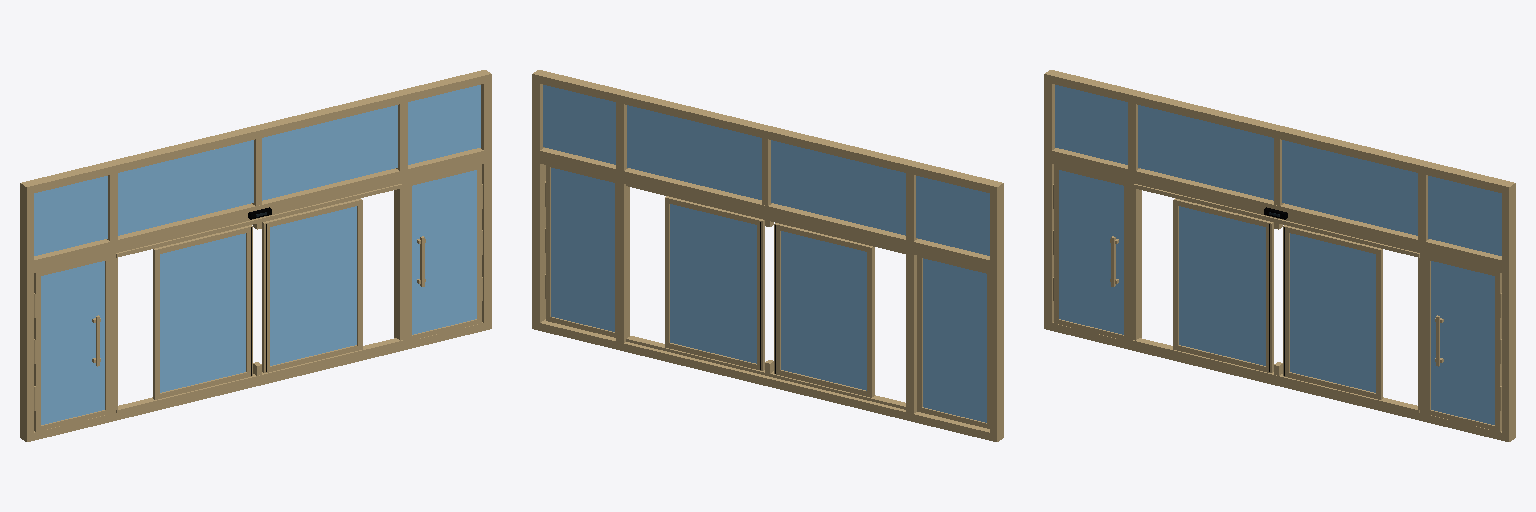
The robot description file, URDF, robot "automatic_glass_entrance":
<robot name="automatic_glass_entrance">
  <material name="champagne_aluminum">
    <color rgba="0.78 0.69 0.52 1" />
    </material>
  <material name="blue_gray_transparent_glass">
    <color rgba="0.58 0.78 0.92 0.34" />
    </material>
  <material name="dark_center_gasket">
    <color rgba="0.05 0.055 0.055 1" />
    </material>
  <material name="black_sensor_module">
    <color rgba="0.035 0.036 0.04 1" />
    </material>
  <material name="sensor_lens_glass">
    <color rgba="0.14 0.18 0.2 0.86" />
    </material>
  <link name="frame">
    <visual name="lower_threshold">
      <origin xyz="0 0 0.05" rpy="0 0 0" />
      <geometry>
        <box size="6.1 0.14 0.1" />
        </geometry>
      <material name="champagne_aluminum">
        <color rgba="0.78 0.69 0.52 1" />
        </material>
      </visual>
    <visual name="top_header">
      <origin xyz="0 0 2.18" rpy="0 0 0" />
      <geometry>
        <box size="6.1 0.14 0.16" />
        </geometry>
      <material name="champagne_aluminum">
        <color rgba="0.78 0.69 0.52 1" />
        </material>
      </visual>
    <visual name="outer_top_rail">
      <origin xyz="0 0 3.15" rpy="0 0 0" />
      <geometry>
        <box size="6.1 0.14 0.1" />
        </geometry>
      <material name="champagne_aluminum">
        <color rgba="0.78 0.69 0.52 1" />
        </material>
      </visual>
    <visual name="left_outer_jamb">
      <origin xyz="-3 0 1.6" rpy="0 0 0" />
      <geometry>
        <box size="0.1 0.14 3.2" />
        </geometry>
      <material name="champagne_aluminum">
        <color rgba="0.78 0.69 0.52 1" />
        </material>
      </visual>
    <visual name="left_center_jamb">
      <origin xyz="-1.9 0 1.6" rpy="0 0 0" />
      <geometry>
        <box size="0.1 0.14 3.2" />
        </geometry>
      <material name="champagne_aluminum">
        <color rgba="0.78 0.69 0.52 1" />
        </material>
      </visual>
    <visual name="right_center_jamb">
      <origin xyz="1.9 0 1.6" rpy="0 0 0" />
      <geometry>
        <box size="0.1 0.14 3.2" />
        </geometry>
      <material name="champagne_aluminum">
        <color rgba="0.78 0.69 0.52 1" />
        </material>
      </visual>
    <visual name="right_outer_jamb">
      <origin xyz="3 0 1.6" rpy="0 0 0" />
      <geometry>
        <box size="0.1 0.14 3.2" />
        </geometry>
      <material name="champagne_aluminum">
        <color rgba="0.78 0.69 0.52 1" />
        </material>
      </visual>
    <visual name="lower_track_rail">
      <origin xyz="0 -0.036 0.118" rpy="0 0 0" />
      <geometry>
        <box size="3.76 0.1 0.036" />
        </geometry>
      <material name="champagne_aluminum">
        <color rgba="0.78 0.69 0.52 1" />
        </material>
      </visual>
    <visual name="upper_track_rail">
      <origin xyz="0 -0.036 2.076" rpy="0 0 0" />
      <geometry>
        <box size="3.76 0.11 0.048" />
        </geometry>
      <material name="champagne_aluminum">
        <color rgba="0.78 0.69 0.52 1" />
        </material>
      </visual>
    <visual name="center_meeting_guide">
      <origin xyz="0 -0.036 0.18" rpy="0 0 0" />
      <geometry>
        <box size="0.07 0.095 0.16" />
        </geometry>
      <material name="champagne_aluminum">
        <color rgba="0.78 0.69 0.52 1" />
        </material>
      </visual>
    <visual name="upper_meeting_guide">
      <origin xyz="0 -0.036 2.035" rpy="0 0 0" />
      <geometry>
        <box size="0.07 0.095 0.13" />
        </geometry>
      <material name="champagne_aluminum">
        <color rgba="0.78 0.69 0.52 1" />
        </material>
      </visual>
    <visual name="transom_mullion_0">
      <origin xyz="-1.9 0 2.68" rpy="0 0 0" />
      <geometry>
        <box size="0.08 0.1288 0.89" />
        </geometry>
      <material name="champagne_aluminum">
        <color rgba="0.78 0.69 0.52 1" />
        </material>
      </visual>
    <visual name="center_transom_mullion">
      <origin xyz="0 0 2.68" rpy="0 0 0" />
      <geometry>
        <box size="0.08 0.1288 0.89" />
        </geometry>
      <material name="champagne_aluminum">
        <color rgba="0.78 0.69 0.52 1" />
        </material>
      </visual>
    <visual name="transom_mullion_1">
      <origin xyz="1.9 0 2.68" rpy="0 0 0" />
      <geometry>
        <box size="0.08 0.1288 0.89" />
        </geometry>
      <material name="champagne_aluminum">
        <color rgba="0.78 0.69 0.52 1" />
        </material>
      </visual>
    <visual name="transom_glass_0">
      <origin xyz="-2.45 -0.004 2.68" rpy="0 0 0" />
      <geometry>
        <box size="1.05 0.018 0.8" />
        </geometry>
      <material name="blue_gray_transparent_glass">
        <color rgba="0.58 0.78 0.92 0.34" />
        </material>
      </visual>
    <visual name="transom_glass_1">
      <origin xyz="-0.95 -0.004 2.68" rpy="0 0 0" />
      <geometry>
        <box size="1.9 0.018 0.8" />
        </geometry>
      <material name="blue_gray_transparent_glass">
        <color rgba="0.58 0.78 0.92 0.34" />
        </material>
      </visual>
    <visual name="transom_glass_2">
      <origin xyz="0.95 -0.004 2.68" rpy="0 0 0" />
      <geometry>
        <box size="1.9 0.018 0.8" />
        </geometry>
      <material name="blue_gray_transparent_glass">
        <color rgba="0.58 0.78 0.92 0.34" />
        </material>
      </visual>
    <visual name="transom_glass_3">
      <origin xyz="2.45 -0.004 2.68" rpy="0 0 0" />
      <geometry>
        <box size="1.05 0.018 0.8" />
        </geometry>
      <material name="blue_gray_transparent_glass">
        <color rgba="0.58 0.78 0.92 0.34" />
        </material>
      </visual>
    <visual name="sensor_module">
      <origin xyz="0 -0.096 2.17" rpy="0 0 0" />
      <geometry>
        <box size="0.28 0.052 0.07" />
        </geometry>
      <material name="black_sensor_module">
        <color rgba="0.035 0.036 0.04 1" />
        </material>
      </visual>
    <visual name="sensor_lens">
      <origin xyz="0 -0.124 2.17" rpy="0 0 0" />
      <geometry>
        <box size="0.135 0.012 0.03" />
        </geometry>
      <material name="sensor_lens_glass">
        <color rgba="0.14 0.18 0.2 0.86" />
        </material>
      </visual>
    </link>
  <link name="left_sliding_leaf">
    <visual name="top_rail">
      <origin xyz="0 0 0.908" rpy="0 0 0" />
      <geometry>
        <box size="1.28 0.06 0.064" />
        </geometry>
      <material name="champagne_aluminum">
        <color rgba="0.78 0.69 0.52 1" />
        </material>
      </visual>
    <visual name="bottom_rail">
      <origin xyz="0 0 -0.908" rpy="0 0 0" />
      <geometry>
        <box size="1.28 0.06 0.064" />
        </geometry>
      <material name="champagne_aluminum">
        <color rgba="0.78 0.69 0.52 1" />
        </material>
      </visual>
    <visual name="outer_stile">
      <origin xyz="-0.608 0 0" rpy="0 0 0" />
      <geometry>
        <box size="0.064 0.06 1.88" />
        </geometry>
      <material name="champagne_aluminum">
        <color rgba="0.78 0.69 0.52 1" />
        </material>
      </visual>
    <visual name="meeting_stile">
      <origin xyz="0.608 0 0" rpy="0 0 0" />
      <geometry>
        <box size="0.0768 0.06 1.88" />
        </geometry>
      <material name="champagne_aluminum">
        <color rgba="0.78 0.69 0.52 1" />
        </material>
      </visual>
    <visual name="center_seal">
      <origin xyz="0.622 0 0" rpy="0 0 0" />
      <geometry>
        <box size="0.018 0.0624 1.8608" />
        </geometry>
      <material name="dark_center_gasket">
        <color rgba="0.05 0.055 0.055 1" />
        </material>
      </visual>
    <visual name="glass_panel">
      <geometry>
        <box size="1.18 0.018 1.782" />
        </geometry>
      <material name="blue_gray_transparent_glass">
        <color rgba="0.58 0.78 0.92 0.34" />
        </material>
      </visual>
    </link>
  <link name="right_sliding_leaf">
    <visual name="top_rail">
      <origin xyz="0 0 0.908" rpy="0 0 0" />
      <geometry>
        <box size="1.28 0.06 0.064" />
        </geometry>
      <material name="champagne_aluminum">
        <color rgba="0.78 0.69 0.52 1" />
        </material>
      </visual>
    <visual name="bottom_rail">
      <origin xyz="0 0 -0.908" rpy="0 0 0" />
      <geometry>
        <box size="1.28 0.06 0.064" />
        </geometry>
      <material name="champagne_aluminum">
        <color rgba="0.78 0.69 0.52 1" />
        </material>
      </visual>
    <visual name="outer_stile">
      <origin xyz="0.608 0 0" rpy="0 0 0" />
      <geometry>
        <box size="0.064 0.06 1.88" />
        </geometry>
      <material name="champagne_aluminum">
        <color rgba="0.78 0.69 0.52 1" />
        </material>
      </visual>
    <visual name="meeting_stile">
      <origin xyz="-0.608 0 0" rpy="0 0 0" />
      <geometry>
        <box size="0.0768 0.06 1.88" />
        </geometry>
      <material name="champagne_aluminum">
        <color rgba="0.78 0.69 0.52 1" />
        </material>
      </visual>
    <visual name="center_seal">
      <origin xyz="-0.622 0 0" rpy="0 0 0" />
      <geometry>
        <box size="0.018 0.0624 1.8608" />
        </geometry>
      <material name="dark_center_gasket">
        <color rgba="0.05 0.055 0.055 1" />
        </material>
      </visual>
    <visual name="glass_panel">
      <geometry>
        <box size="1.18 0.018 1.782" />
        </geometry>
      <material name="blue_gray_transparent_glass">
        <color rgba="0.58 0.78 0.92 0.34" />
        </material>
      </visual>
    </link>
  <link name="left_side_door">
    <visual name="top_rail">
      <origin xyz="0.488 0 0.97" rpy="0 0 0" />
      <geometry>
        <box size="0.976 0.055 0.06" />
        </geometry>
      <material name="champagne_aluminum">
        <color rgba="0.78 0.69 0.52 1" />
        </material>
      </visual>
    <visual name="bottom_rail">
      <origin xyz="0.488 0 -0.97" rpy="0 0 0" />
      <geometry>
        <box size="0.976 0.055 0.06" />
        </geometry>
      <material name="champagne_aluminum">
        <color rgba="0.78 0.69 0.52 1" />
        </material>
      </visual>
    <visual name="hinge_stile">
      <origin xyz="0.03 0 0" rpy="0 0 0" />
      <geometry>
        <box size="0.06 0.055 2" />
        </geometry>
      <material name="champagne_aluminum">
        <color rgba="0.78 0.69 0.52 1" />
        </material>
      </visual>
    <visual name="latch_stile">
      <origin xyz="0.946 0 0" rpy="0 0 0" />
      <geometry>
        <box size="0.06 0.055 2" />
        </geometry>
      <material name="champagne_aluminum">
        <color rgba="0.78 0.69 0.52 1" />
        </material>
      </visual>
    <visual name="glass_panel">
      <origin xyz="0.488 0 0" rpy="0 0 0" />
      <geometry>
        <box size="0.882 0.0187 1.906" />
        </geometry>
      <material name="blue_gray_transparent_glass">
        <color rgba="0.58 0.78 0.92 0.34" />
        </material>
      </visual>
    <visual name="handle_bar">
      <origin xyz="0.796 -0.056 -0.03" rpy="0 0 0" />
      <geometry>
        <box size="0.035 0.035 0.62" />
        </geometry>
      <material name="champagne_aluminum">
        <color rgba="0.78 0.69 0.52 1" />
        </material>
      </visual>
    <visual name="handle_mount_0">
      <origin xyz="0.796 -0.03 -0.28" rpy="0 0 0" />
      <geometry>
        <box size="0.09 0.045 0.04" />
        </geometry>
      <material name="champagne_aluminum">
        <color rgba="0.78 0.69 0.52 1" />
        </material>
      </visual>
    <visual name="handle_mount_1">
      <origin xyz="0.796 -0.03 0.22" rpy="0 0 0" />
      <geometry>
        <box size="0.09 0.045 0.04" />
        </geometry>
      <material name="champagne_aluminum">
        <color rgba="0.78 0.69 0.52 1" />
        </material>
      </visual>
    <visual name="hinge_barrel_0">
      <origin xyz="0 0 -0.58" rpy="0 0 0" />
      <geometry>
        <cylinder radius="0.024" length="0.3" />
        </geometry>
      <material name="champagne_aluminum">
        <color rgba="0.78 0.69 0.52 1" />
        </material>
      </visual>
    <visual name="hinge_barrel_1">
      <geometry>
        <cylinder radius="0.024" length="0.3" />
        </geometry>
      <material name="champagne_aluminum">
        <color rgba="0.78 0.69 0.52 1" />
        </material>
      </visual>
    <visual name="hinge_barrel_2">
      <origin xyz="0 0 0.58" rpy="0 0 0" />
      <geometry>
        <cylinder radius="0.024" length="0.3" />
        </geometry>
      <material name="champagne_aluminum">
        <color rgba="0.78 0.69 0.52 1" />
        </material>
      </visual>
    </link>
  <link name="right_side_door">
    <visual name="top_rail">
      <origin xyz="-0.488 0 0.97" rpy="0 0 0" />
      <geometry>
        <box size="0.976 0.055 0.06" />
        </geometry>
      <material name="champagne_aluminum">
        <color rgba="0.78 0.69 0.52 1" />
        </material>
      </visual>
    <visual name="bottom_rail">
      <origin xyz="-0.488 0 -0.97" rpy="0 0 0" />
      <geometry>
        <box size="0.976 0.055 0.06" />
        </geometry>
      <material name="champagne_aluminum">
        <color rgba="0.78 0.69 0.52 1" />
        </material>
      </visual>
    <visual name="hinge_stile">
      <origin xyz="-0.03 0 0" rpy="0 0 0" />
      <geometry>
        <box size="0.06 0.055 2" />
        </geometry>
      <material name="champagne_aluminum">
        <color rgba="0.78 0.69 0.52 1" />
        </material>
      </visual>
    <visual name="latch_stile">
      <origin xyz="-0.946 0 0" rpy="0 0 0" />
      <geometry>
        <box size="0.06 0.055 2" />
        </geometry>
      <material name="champagne_aluminum">
        <color rgba="0.78 0.69 0.52 1" />
        </material>
      </visual>
    <visual name="glass_panel">
      <origin xyz="-0.488 0 0" rpy="0 0 0" />
      <geometry>
        <box size="0.882 0.0187 1.906" />
        </geometry>
      <material name="blue_gray_transparent_glass">
        <color rgba="0.58 0.78 0.92 0.34" />
        </material>
      </visual>
    <visual name="handle_bar">
      <origin xyz="-0.796 -0.056 -0.03" rpy="0 0 0" />
      <geometry>
        <box size="0.035 0.035 0.62" />
        </geometry>
      <material name="champagne_aluminum">
        <color rgba="0.78 0.69 0.52 1" />
        </material>
      </visual>
    <visual name="handle_mount_0">
      <origin xyz="-0.796 -0.03 -0.28" rpy="0 0 0" />
      <geometry>
        <box size="0.09 0.045 0.04" />
        </geometry>
      <material name="champagne_aluminum">
        <color rgba="0.78 0.69 0.52 1" />
        </material>
      </visual>
    <visual name="handle_mount_1">
      <origin xyz="-0.796 -0.03 0.22" rpy="0 0 0" />
      <geometry>
        <box size="0.09 0.045 0.04" />
        </geometry>
      <material name="champagne_aluminum">
        <color rgba="0.78 0.69 0.52 1" />
        </material>
      </visual>
    <visual name="hinge_barrel_0">
      <origin xyz="0 0 -0.58" rpy="0 0 0" />
      <geometry>
        <cylinder radius="0.024" length="0.3" />
        </geometry>
      <material name="champagne_aluminum">
        <color rgba="0.78 0.69 0.52 1" />
        </material>
      </visual>
    <visual name="hinge_barrel_1">
      <geometry>
        <cylinder radius="0.024" length="0.3" />
        </geometry>
      <material name="champagne_aluminum">
        <color rgba="0.78 0.69 0.52 1" />
        </material>
      </visual>
    <visual name="hinge_barrel_2">
      <origin xyz="0 0 0.58" rpy="0 0 0" />
      <geometry>
        <cylinder radius="0.024" length="0.3" />
        </geometry>
      <material name="champagne_aluminum">
        <color rgba="0.78 0.69 0.52 1" />
        </material>
      </visual>
    </link>
  <joint name="left_leaf_slide" type="prismatic">
    <origin xyz="-0.72 -0.035 1.076" rpy="0 0 0" />
    <parent link="frame" />
    <child link="left_sliding_leaf" />
    <axis xyz="-1 0 0" />
    <limit effort="90" velocity="0.55" lower="-0.07" upper="0.45" />
    </joint>
  <joint name="right_leaf_slide" type="prismatic">
    <origin xyz="0.72 -0.035 1.076" rpy="0 0 0" />
    <parent link="frame" />
    <child link="right_sliding_leaf" />
    <axis xyz="1 0 0" />
    <limit effort="90" velocity="0.55" lower="-0.07" upper="0.45" />
    </joint>
  <joint name="left_side_hinge" type="revolute">
    <origin xyz="-2.926 -0.04 1.1" rpy="0 0 0" />
    <parent link="frame" />
    <child link="left_side_door" />
    <axis xyz="0 0 -1" />
    <limit effort="35" velocity="1.2" lower="0" upper="1.25" />
    </joint>
  <joint name="right_side_hinge" type="revolute">
    <origin xyz="2.926 -0.04 1.1" rpy="0 0 0" />
    <parent link="frame" />
    <child link="right_side_door" />
    <axis xyz="0 0 1" />
    <limit effort="35" velocity="1.2" lower="0" upper="1.25" />
    </joint>
  </robot>

--- Facts derived from the render (not from the file) ---
3 views of the same robot in one strip: view 1: azimuth 30°, elevation 25°; view 2: azimuth 150°, elevation 25°; view 3: azimuth 330°, elevation 25° (orthographic).
Model automatic_glass_entrance with 5 links and 4 joints (2 revolute, 2 prismatic), rooted at frame, posed all joints at 0.
Links seen in each view (by area): view 1: frame, right_sliding_leaf, left_sliding_leaf, left_side_door, right_side_door; view 2: frame, left_sliding_leaf, right_sliding_leaf, left_side_door, right_side_door; view 3: frame, left_sliding_leaf, right_sliding_leaf, right_side_door, left_side_door.
Boxes of the visible links, x1,y1,x2,y2 form: frame: [20, 70, 491, 441]; right_sliding_leaf: [262, 198, 362, 372]; left_sliding_leaf: [153, 225, 252, 399]; left_side_door: [34, 255, 109, 431]; right_side_door: [408, 164, 482, 340]; frame: [532, 70, 1003, 441]; left_sliding_leaf: [774, 223, 874, 397]; right_sliding_leaf: [665, 196, 764, 370]; left_side_door: [917, 256, 989, 428]; right_side_door: [545, 165, 615, 337]; frame: [1044, 70, 1515, 441]; left_sliding_leaf: [1173, 198, 1273, 372]; right_sliding_leaf: [1283, 225, 1382, 399]; right_side_door: [1426, 255, 1501, 431]; left_side_door: [1053, 164, 1127, 340].
Size in the robot's own frame: 6.1 by 0.2 by 3.2 metres.
Geometry: primitives only (box / cylinder / sphere), no mesh files.
